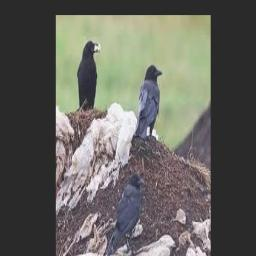Crow: (107, 173, 145, 256), (134, 64, 163, 139), (77, 41, 100, 110)
